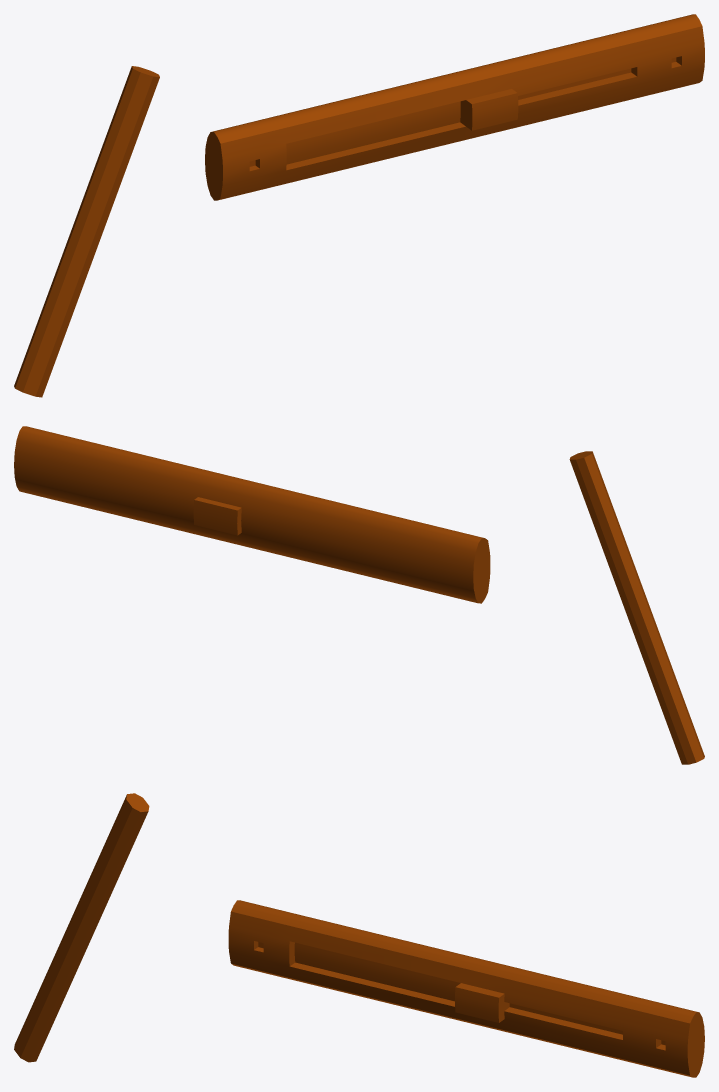
The model's file is Kuriding_IkhsanGymnastiar.fbx.
The picture shows the model from 3 angles, top to bottom: view 1: azimuth 30°, elevation 25°; view 2: azimuth 150°, elevation 25°; view 3: azimuth 330°, elevation 25°; orthographic projection. The views are drawn at different scales.
Parts seen in each view (by area): view 1: Cylinder, Cube; view 2: Cylinder, Cube; view 3: Cylinder, Cube.
Part boxes in pixels (box(x1,y1,x2,y2)): Cylinder: box(205, 14, 704, 200); Cube: box(14, 66, 159, 397); Cylinder: box(14, 426, 490, 603); Cube: box(569, 451, 704, 764); Cylinder: box(228, 900, 704, 1077); Cube: box(14, 793, 149, 1062).
Size of the model in its own units: 433 by 179 by 40.63.
